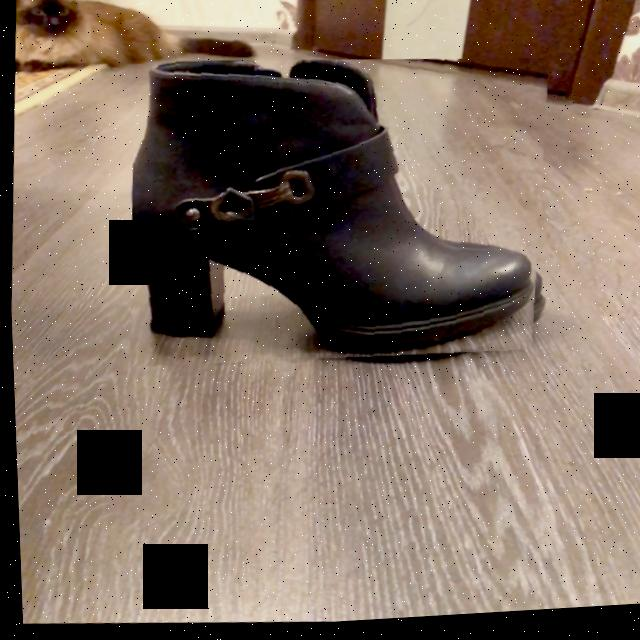shoe: (130, 63, 535, 364)
